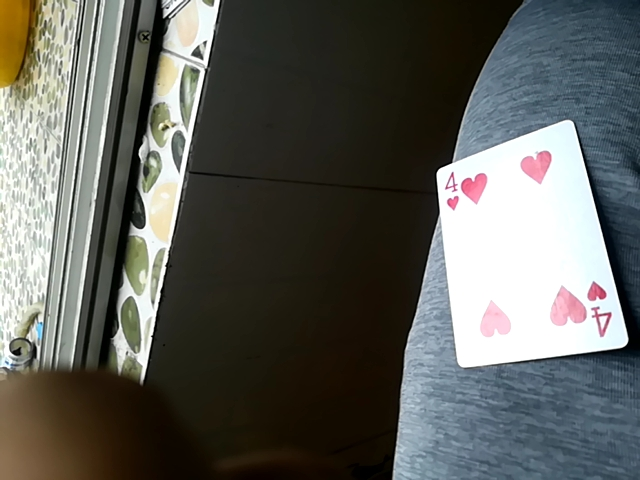hx 4: (427, 119, 628, 371)
